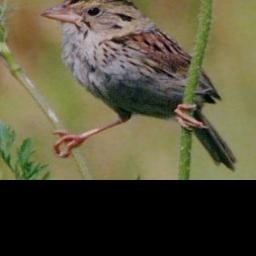Sparrow: (39, 0, 240, 173)
